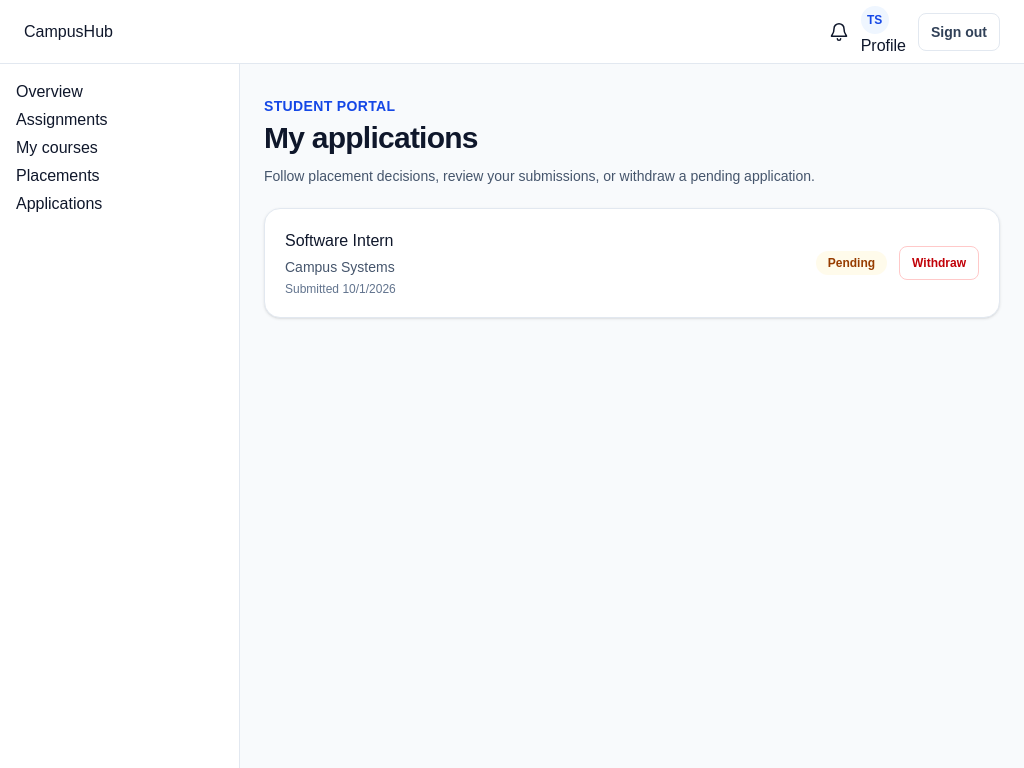
Test case: student and staff workflows › allows a student to withdraw a pending application and reflects the new status
The image size is (1024, 768).
Expected: the link "Software Intern" is shown, [285, 232, 394, 249]
Step 1. Click the button "Withdraw" → (939, 263), box [899, 246, 979, 280]
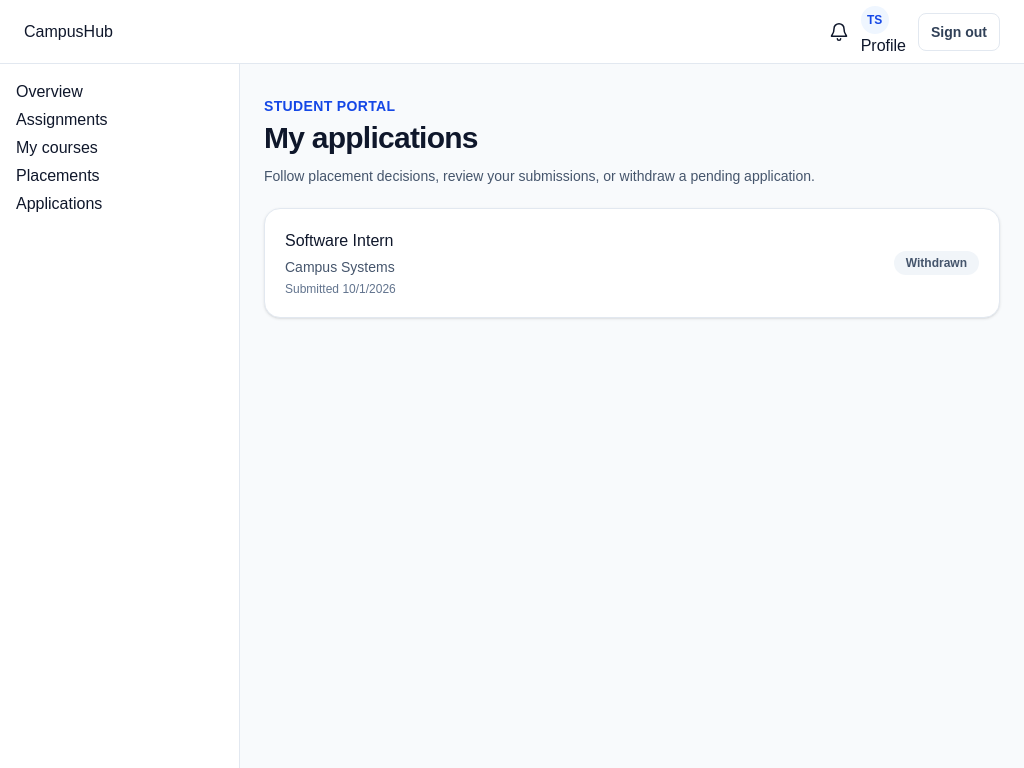
Now the text "withdrawn" is shown, box [894, 251, 979, 275]
